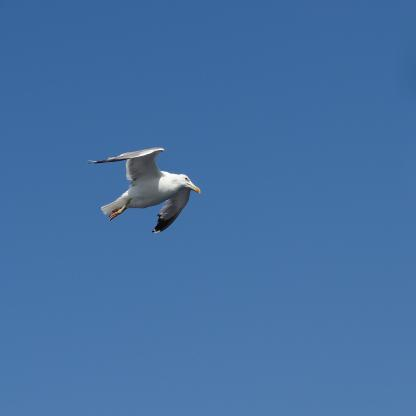bird: (88, 147, 201, 234)
